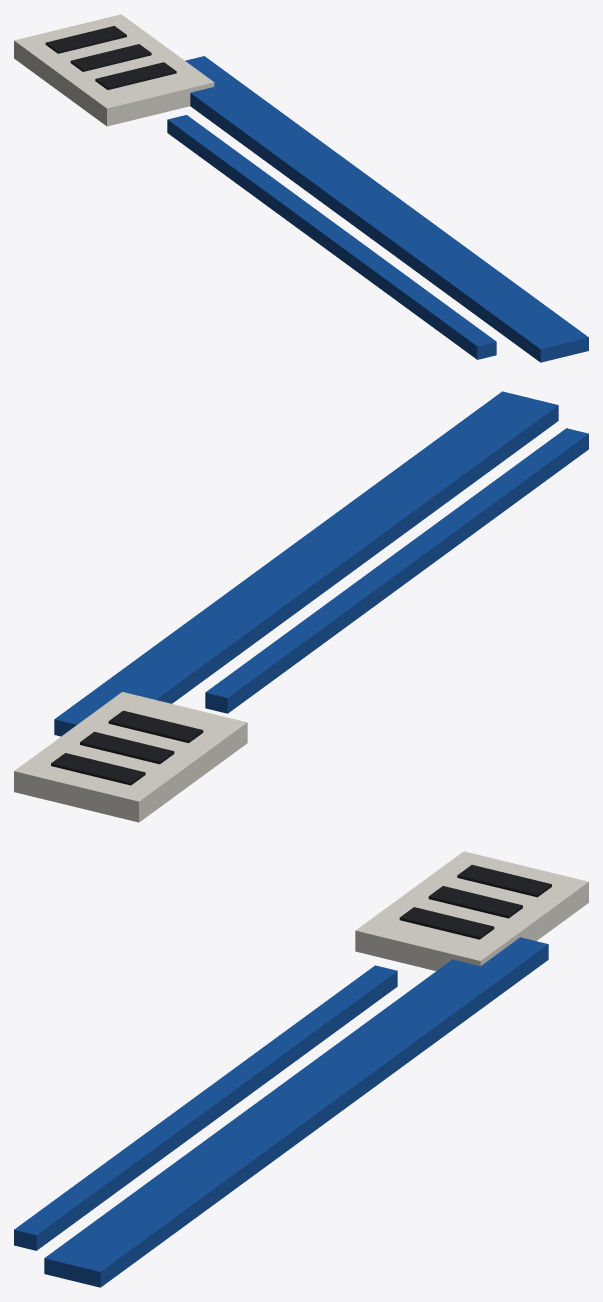
The model's file is civilian_registry.glb.
The picture shows the model from 3 angles, top to bottom: view 1: azimuth 30°, elevation 25°; view 2: azimuth 150°, elevation 25°; view 3: azimuth 330°, elevation 25°; orthographic projection. The views are drawn at different scales.
Bounding box in the file's own units: 0.1225 × 0.018 × 0.715.
